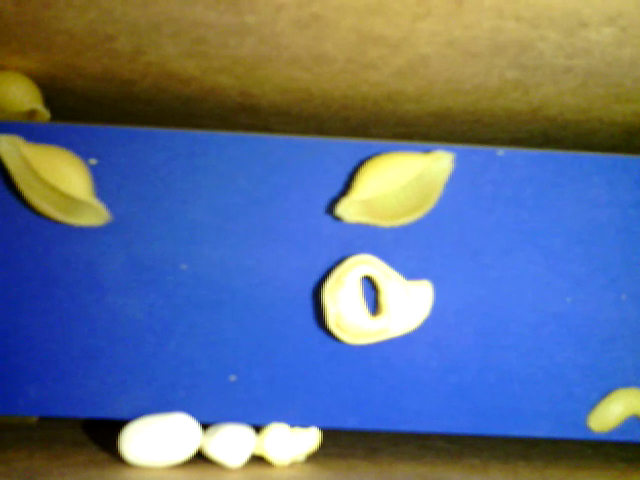elbow: (586, 385, 638, 436)
shell: (327, 147, 455, 230), (2, 135, 112, 231), (3, 70, 56, 124)
tortellini: (312, 251, 437, 344)
